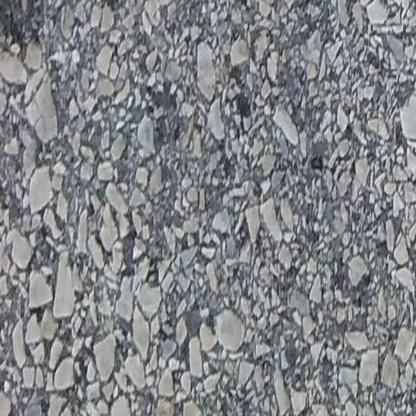Cracks: (0, 0, 43, 54)
